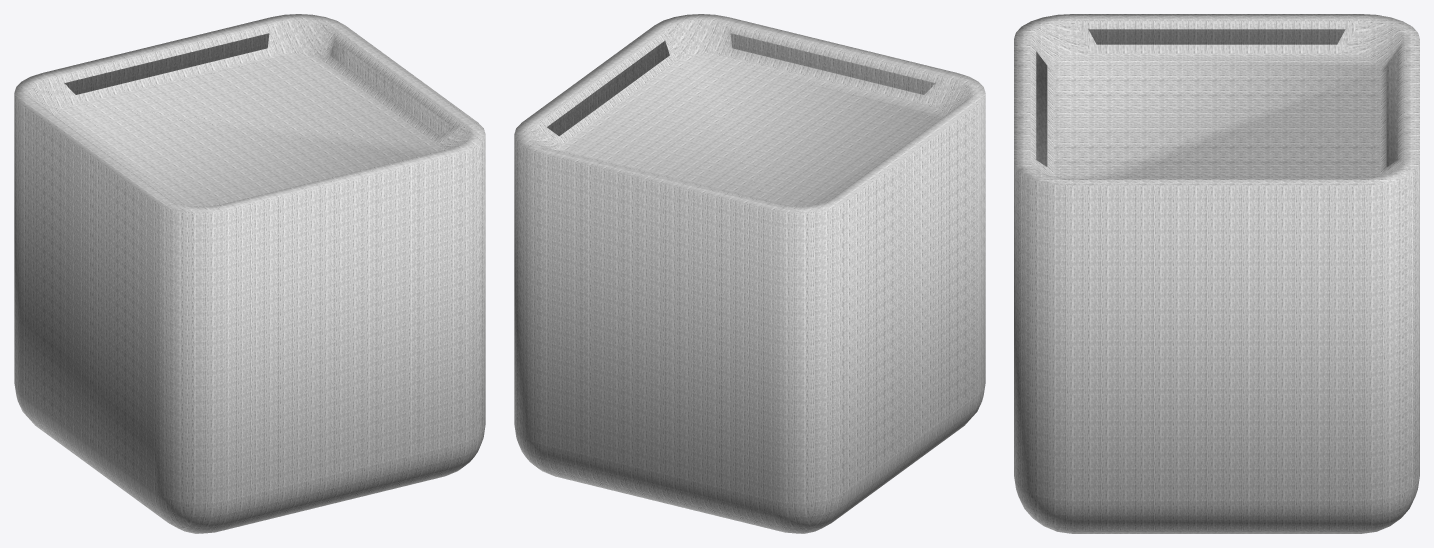
File: ENVIRONMENT.glb
The picture shows the model from 3 angles, left to right: view 1: azimuth 30°, elevation 25°; view 2: azimuth 150°, elevation 25°; view 3: azimuth 270°, elevation 25°; orthographic projection. The views are drawn at different scales.
Parts seen in each view (by area): view 1: Cube; view 2: Cube; view 3: Cube.
Boxes of the visible parts, x1,y1,x2,y2 form: Cube: [14, 14, 485, 533]; Cube: [514, 14, 985, 533]; Cube: [1014, 14, 1419, 533].
Size of the model in its own units: 76.87 by 76.87 by 76.87.
Materials: 2 (1 with a texture image).
